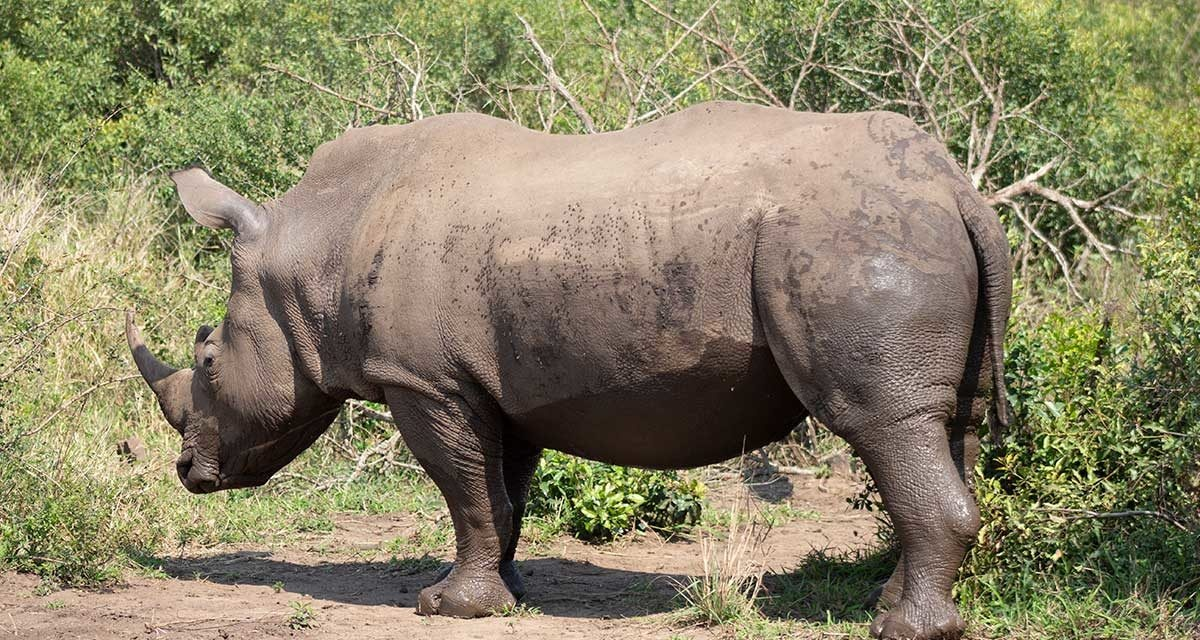rhino: (120, 98, 1017, 632)
